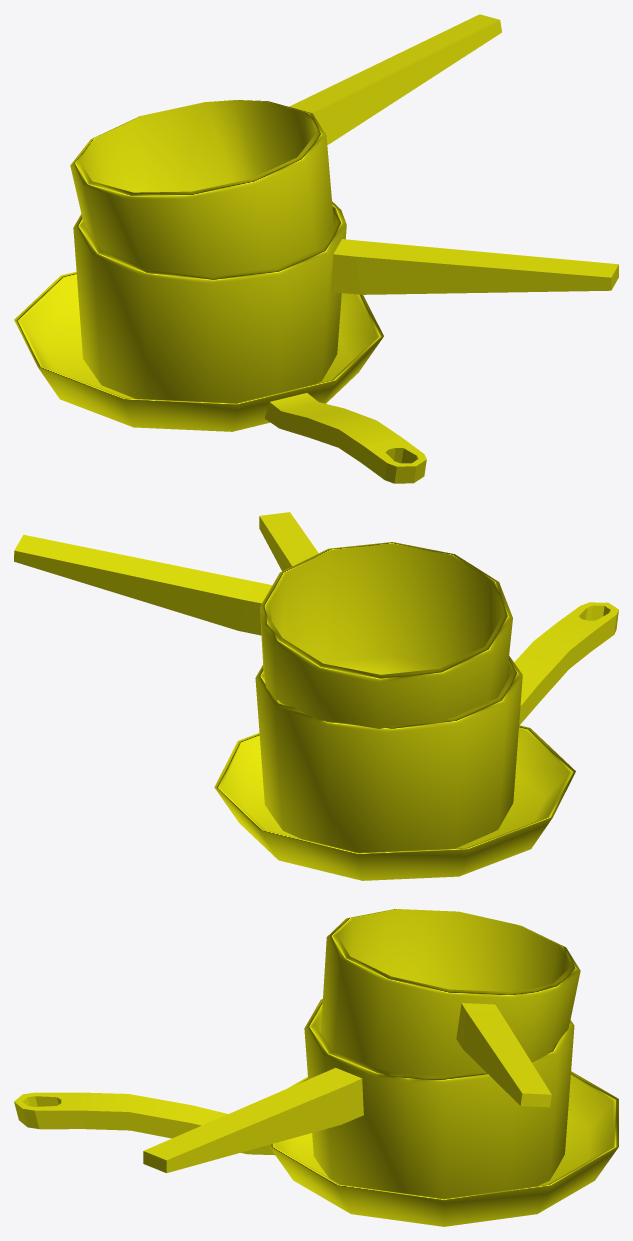
The model's file is Pan_Pile_02_Lod1.fbx.
3 renders of one model, top to bottom at view 1: azimuth 30°, elevation 25°; view 2: azimuth 150°, elevation 25°; view 3: azimuth 270°, elevation 25°, orthographic. The views are drawn at different scales.
Parts seen in each view (by area): view 1: Pan_Pile_02_Lod1; view 2: Pan_Pile_02_Lod1; view 3: Pan_Pile_02_Lod1.
Part boxes in pixels (x1=…): Pan_Pile_02_Lod1: x1=14, y1=14, x2=618, y2=483; Pan_Pile_02_Lod1: x1=14, y1=512, x2=618, y2=880; Pan_Pile_02_Lod1: x1=14, y1=909, x2=618, y2=1226.
Size of the model in its own units: 62.66 by 28.16 by 66.09.
